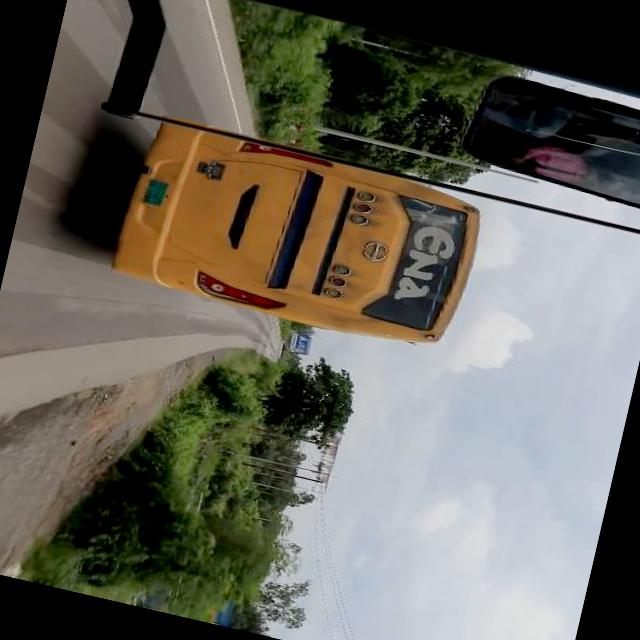bus: (106, 110, 488, 356)
